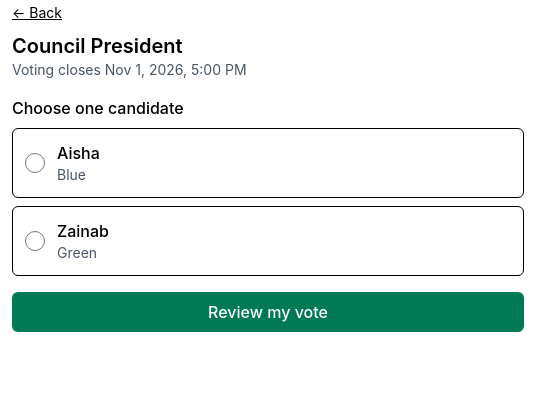
Test: reviewing without choosing asks for a choice
Click the button "Review my vote" at (268, 312), box [12,292,524,332]
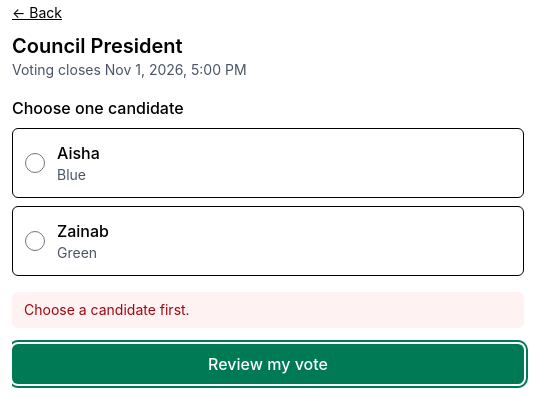
Check: the message reads "Choose a candidate first.", box [24,301,190,318]
